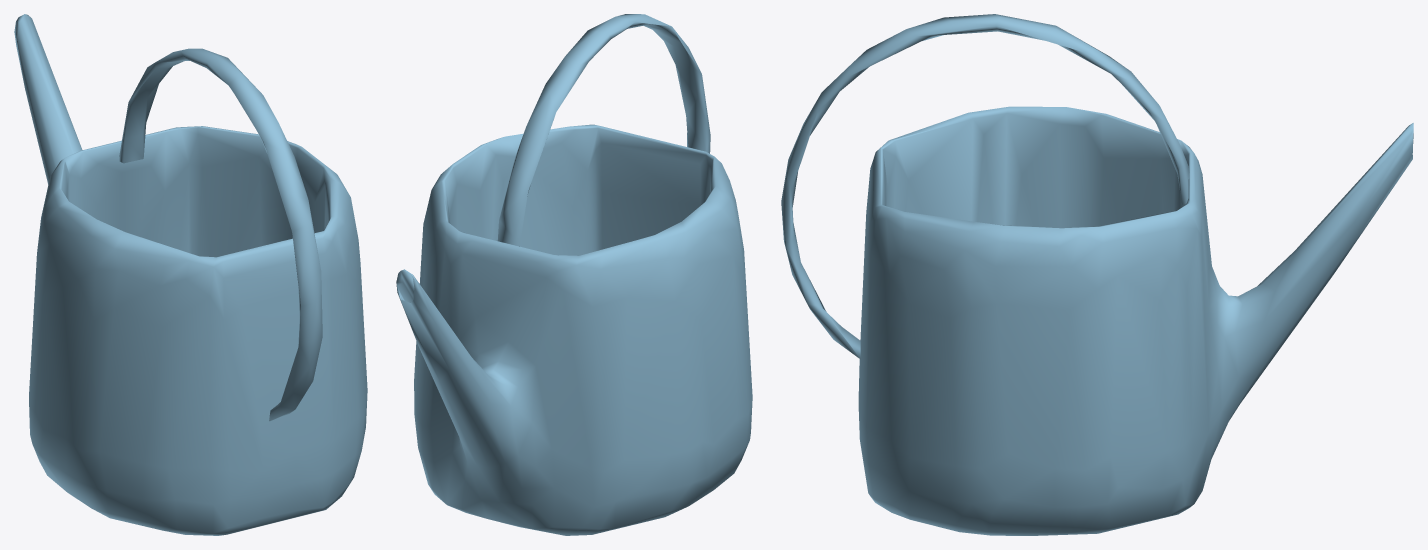
Rendered from WateringCan.fbx.
The picture shows the model from 3 angles, left to right: view 1: azimuth 30°, elevation 25°; view 2: azimuth 150°, elevation 25°; view 3: azimuth 270°, elevation 25°; orthographic projection. The views are drawn at different scales.
Parts seen in each view (by area): view 1: Cube; view 2: Cube; view 3: Cube.
Part boxes in pixels (x1,y1,x2,y2): Cube: (14, 14, 367, 535); Cube: (396, 14, 752, 535); Cube: (781, 14, 1413, 535).
Bounding box in the file's own units: 27.43 × 38.91 × 48.67.
